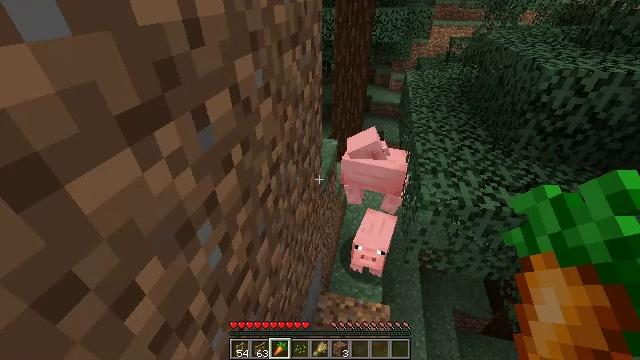pig: (340, 148, 412, 212), (353, 209, 397, 278)
